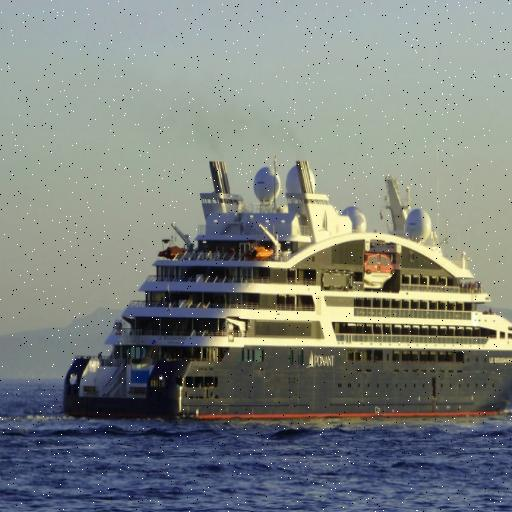cruises: (59, 157, 512, 427)
